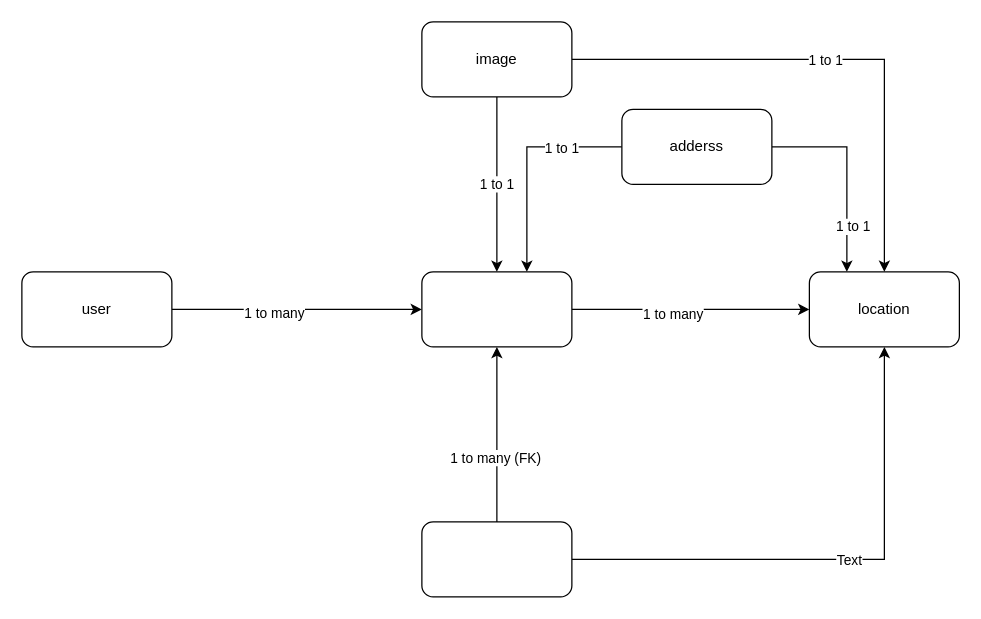
This 981x619 diagram has some shape labels left out. Here are the shapes that lost their labels. From the top down, the centre of each, then its label:
At [496,309]: "company".
At [496,559]: "product".
